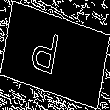P_S: (38, 26, 72, 84)
